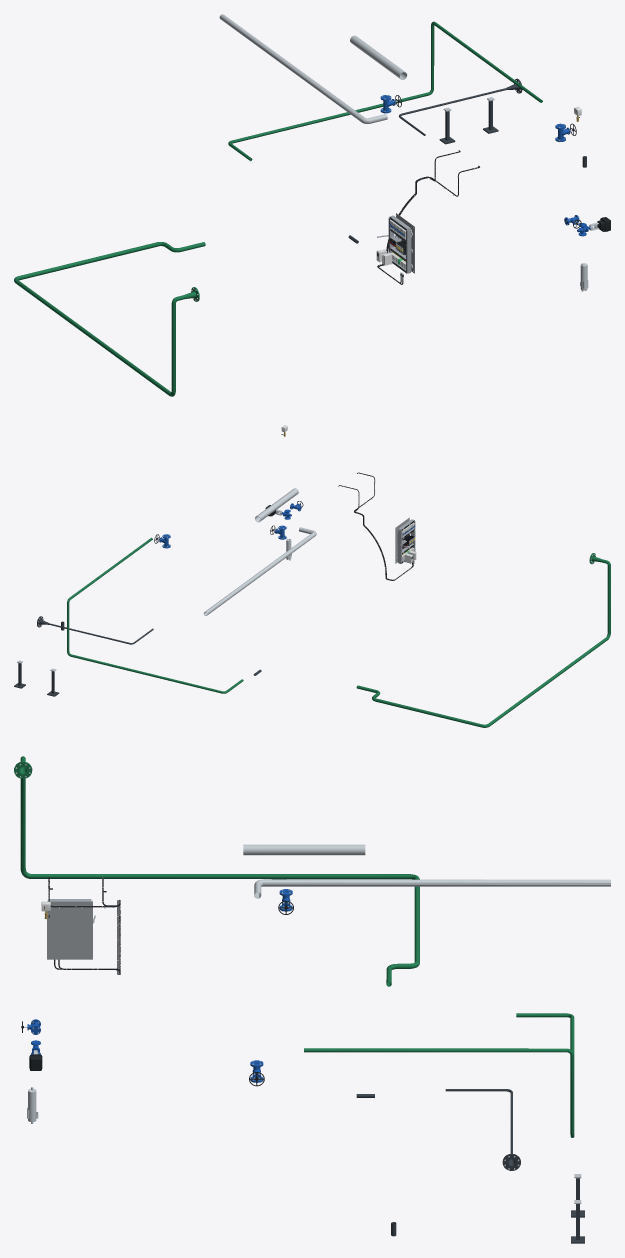
3 views of the same model, one above another, from view 1: azimuth 30°, elevation 25°; view 2: azimuth 150°, elevation 25°; view 3: azimuth 270°, elevation 25° (orthographic). The views are drawn at different scales.
Visible parts, largest first — view 1: deaerator_feed / green, to_economizer / green, cabinet_interior / cabinet_interior_0.npz, safety_vent_2 / steel, steam_delivery / steel; view 2: deaerator_feed / green, to_economizer / green, safety_vent_2 / steel, cabinet_interior / cabinet_interior_0.npz; view 3: deaerator_feed / green, safety_vent_2 / steel, cabinet_interior / cabinet_interior_0.npz, to_economizer / green, steam_delivery / steel.
Boxes of the visible parts, <box> form: deaerator_feed / green: <box>14,242,205,396</box>; to_economizer / green: <box>228,21,542,161</box>; cabinet_interior / cabinet_interior_0.npz: <box>377,213,414,273</box>; safety_vent_2 / steel: <box>219,14,387,123</box>; steam_delivery / steel: <box>350,35,407,79</box>; deaerator_feed / green: <box>356,553,610,727</box>; to_economizer / green: <box>67,537,243,693</box>; safety_vent_2 / steel: <box>203,527,316,615</box>; cabinet_interior / cabinet_interior_0.npz: <box>395,517,415,563</box>; deaerator_feed / green: <box>14,756,419,986</box>; safety_vent_2 / steel: <box>254,879,610,898</box>; cabinet_interior / cabinet_interior_0.npz: <box>47,899,95,959</box>; to_economizer / green: <box>304,1013,574,1137</box>; steam_delivery / steel: <box>243,844,365,855</box>.
Size of the model in its own units: 8.51 by 3.06 by 6.32.
